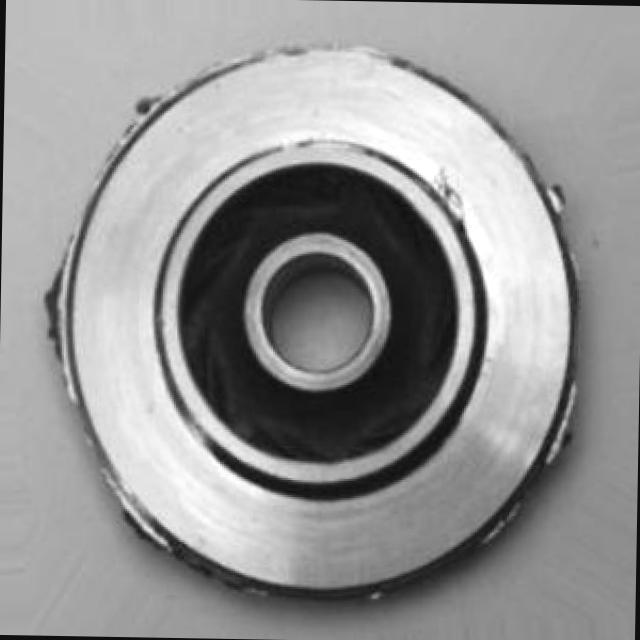Defect: (429, 168, 476, 238)
